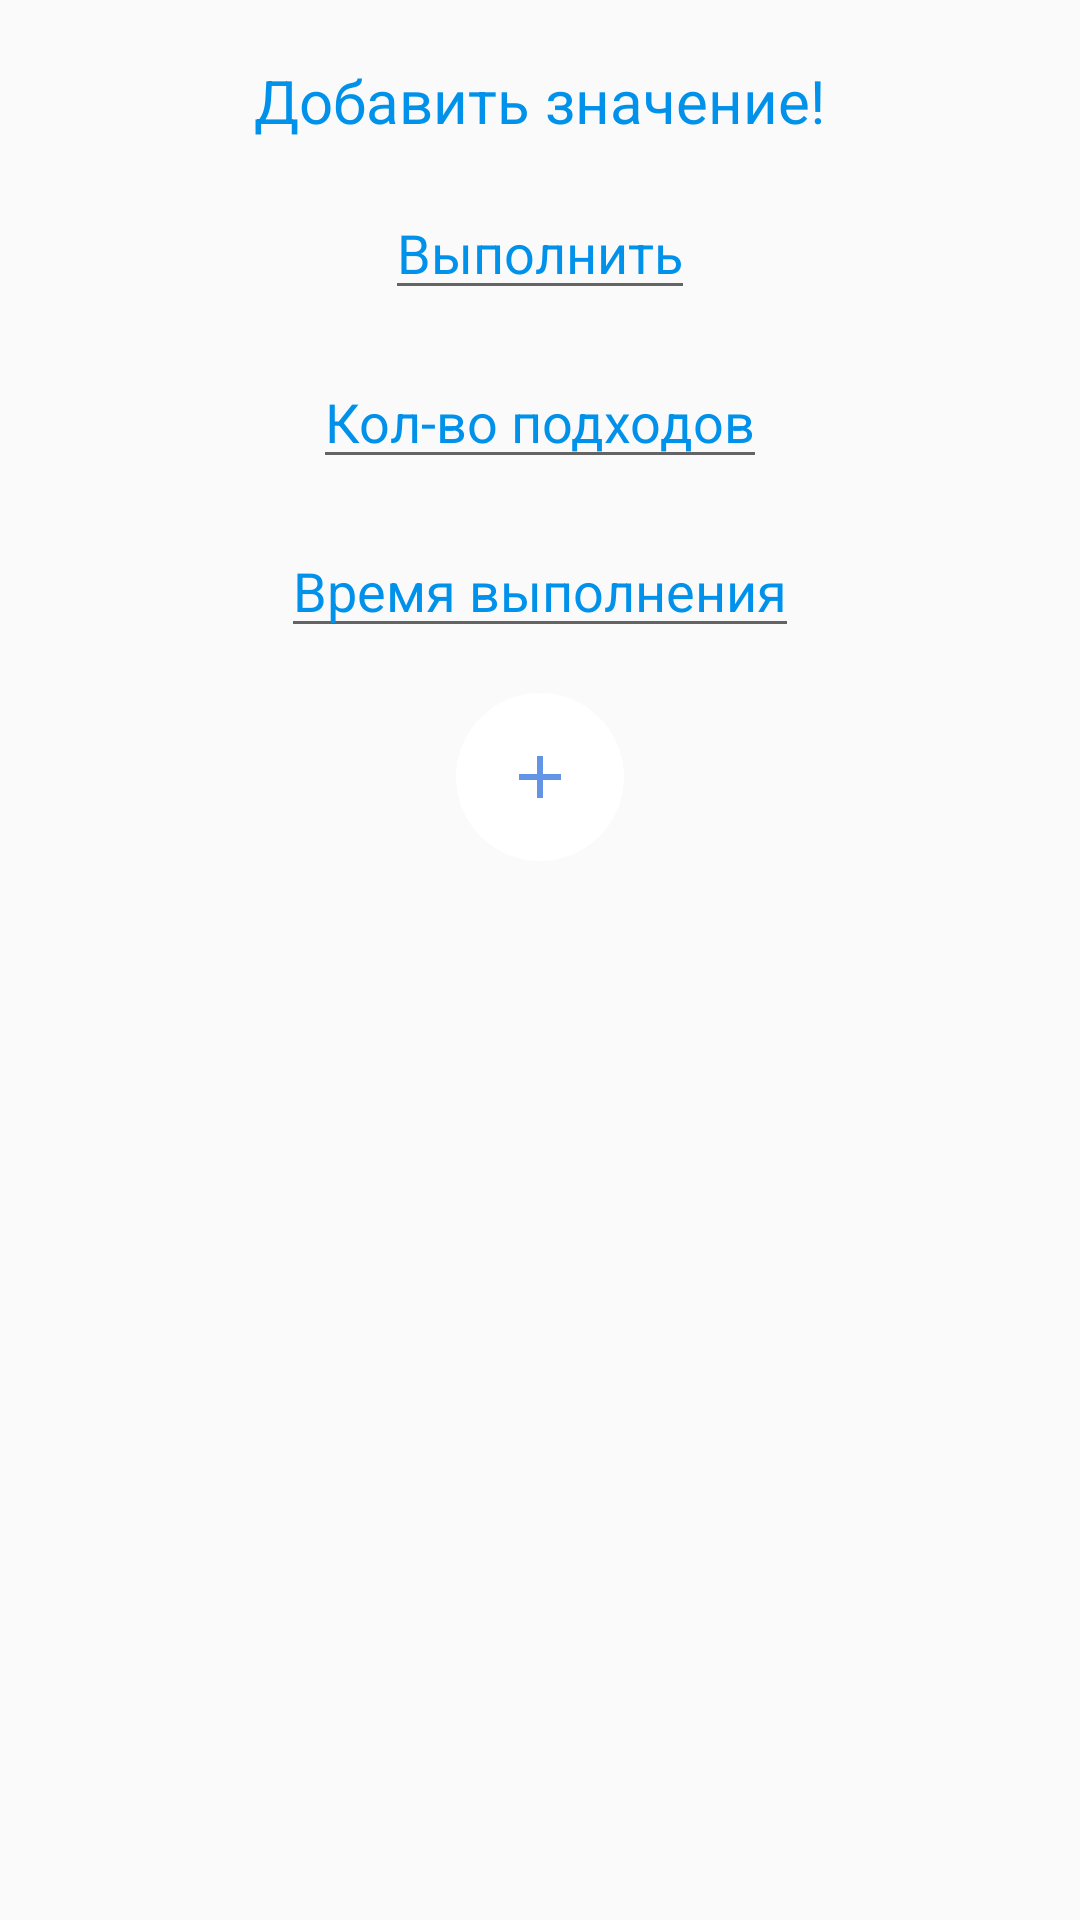

Screen size 1080px×1920px. Icon name, then its box in pixels as (x1, y1, x2, y2):
add: (519, 756, 561, 798)
